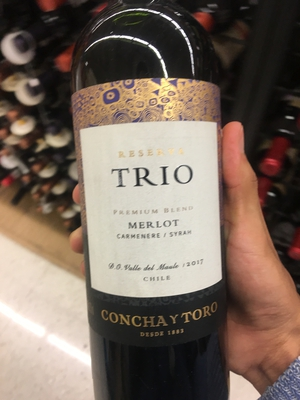trio merlot: (70, 17, 234, 400)
